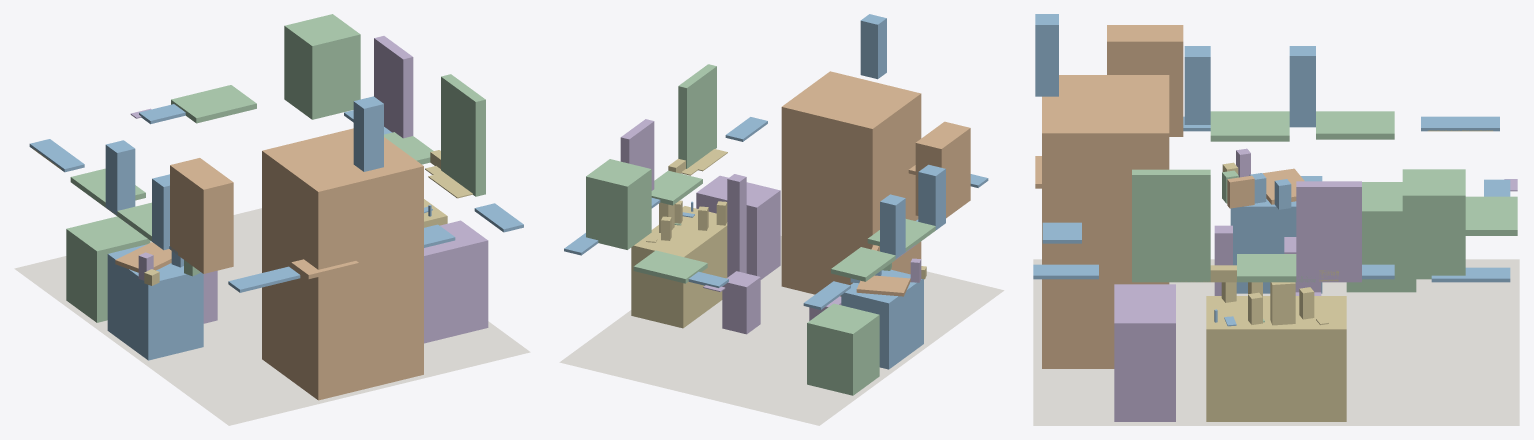
File: layout.glb
The picture shows the model from 3 angles, left to right: view 1: azimuth 30°, elevation 25°; view 2: azimuth 150°, elevation 25°; view 3: azimuth 270°, elevation 25°; orthographic projection. The views are drawn at different scales.
Parts seen in each view (by area): view 1: obj_0007, room_extent_proxy, obj_0002, obj_0047, obj_0000, obj_0042, obj_0001, obj_0023, obj_0031, obj_0040, obj_0039, obj_0037 (+13 smaller); view 2: obj_0007, room_extent_proxy, obj_0003, obj_0001, obj_0047, obj_0002, obj_0000, obj_0042, obj_0023, obj_0006, obj_0004, obj_0040 (+12 smaller); view 3: room_extent_proxy, obj_0007, obj_0003, obj_0023, obj_0000, obj_0047, obj_0031, obj_0042, obj_0001, obj_0002, obj_0036, obj_0048 (+20 smaller).
Boxes of the visible parts, bbox=[...] form: obj_0007: bbox=[262, 128, 423, 400]; room_extent_proxy: bbox=[14, 208, 530, 425]; obj_0002: bbox=[107, 244, 203, 360]; obj_0047: bbox=[284, 14, 360, 119]; obj_0000: bbox=[424, 220, 488, 343]; obj_0042: bbox=[170, 158, 233, 273]; obj_0001: bbox=[66, 216, 150, 322]; obj_0023: bbox=[441, 74, 485, 196]; obj_0031: bbox=[374, 36, 413, 138]; obj_0040: bbox=[353, 96, 383, 171]; obj_0039: bbox=[105, 140, 135, 214]; obj_0037: bbox=[171, 85, 256, 123]; obj_0007: bbox=[781, 71, 921, 296]; room_extent_proxy: bbox=[559, 236, 1004, 425]; obj_0003: bbox=[631, 206, 727, 328]; obj_0001: bbox=[807, 303, 879, 395]; obj_0047: bbox=[586, 159, 651, 249]; obj_0002: bbox=[841, 269, 923, 369]; obj_0000: bbox=[696, 175, 780, 279]; obj_0042: bbox=[915, 121, 970, 218]; obj_0023: bbox=[678, 64, 716, 168]; obj_0006: bbox=[722, 271, 760, 334]; obj_0004: bbox=[727, 174, 746, 277]; obj_0040: bbox=[860, 14, 886, 79]; room_extent_proxy: bbox=[1033, 259, 1519, 425]; obj_0007: bbox=[1042, 75, 1169, 368]; obj_0003: bbox=[1206, 296, 1346, 421]; obj_0023: bbox=[1132, 169, 1210, 282]; obj_0000: bbox=[1114, 284, 1175, 421]; obj_0047: bbox=[1402, 169, 1465, 279]; obj_0031: bbox=[1296, 181, 1361, 282]; obj_0042: bbox=[1107, 25, 1183, 136]; obj_0001: bbox=[1346, 182, 1416, 292]; obj_0002: bbox=[1230, 176, 1322, 293]; obj_0036: bbox=[1210, 111, 1289, 141]; obj_0048: bbox=[1316, 111, 1394, 139].
Size of the model in its own units: 3 by 2.69 by 3.7.
